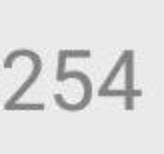TextView: (1, 1, 163, 153)
